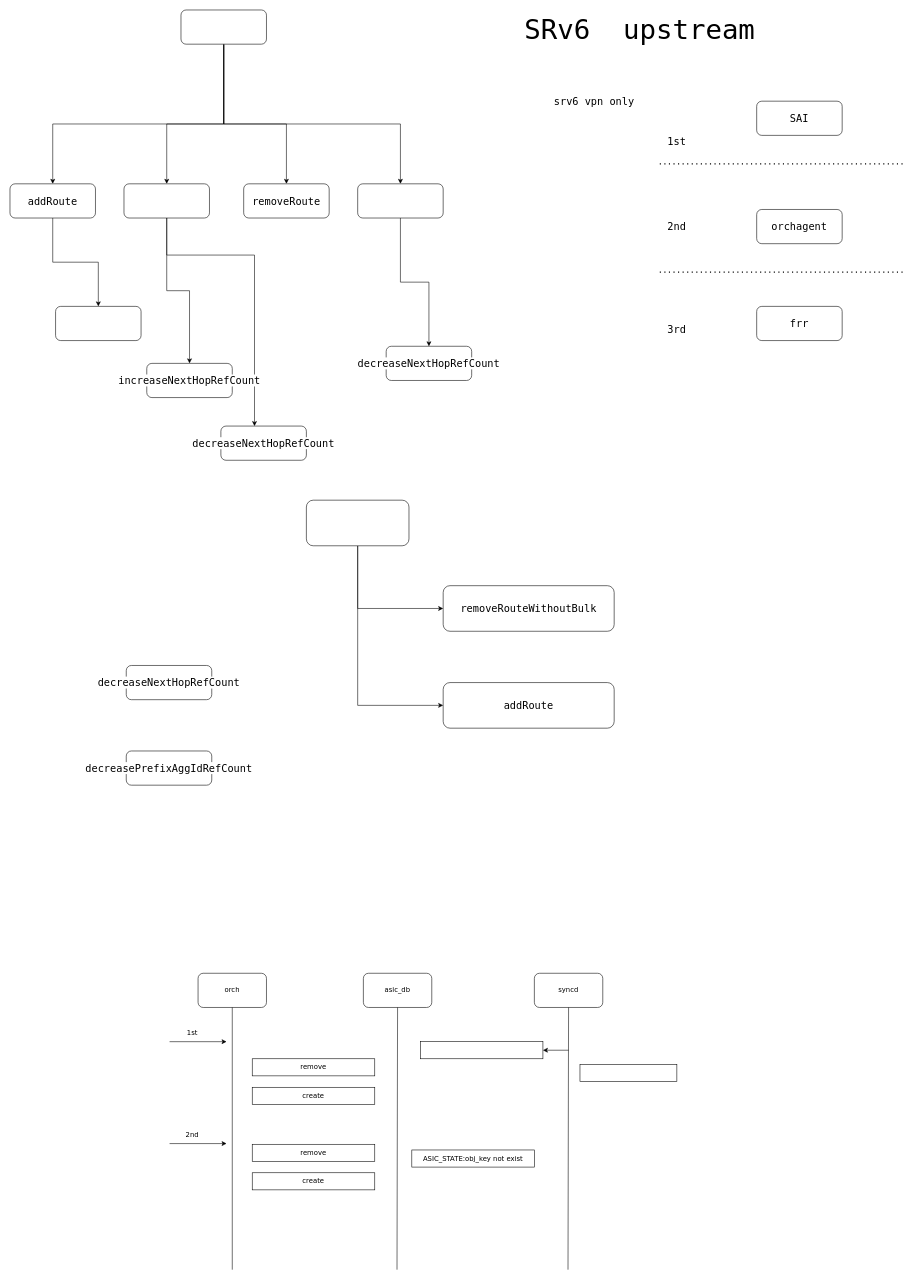
Image size: 916x1280. Some labels were removed from this diagram. The shapes that lost their labels are listed below. From the top down, each one's centre as x and y in pixels, then its label:
the point at 223,26: RouteOrch::doTask
the point at 166,200: addRoutePost
the point at 400,200: removeRoutePost
the point at 98,323: addNextHopGroup
the point at 357,523: doTask
the point at 481,1050: ASIC_STATE:
the point at 628,1073: processed
